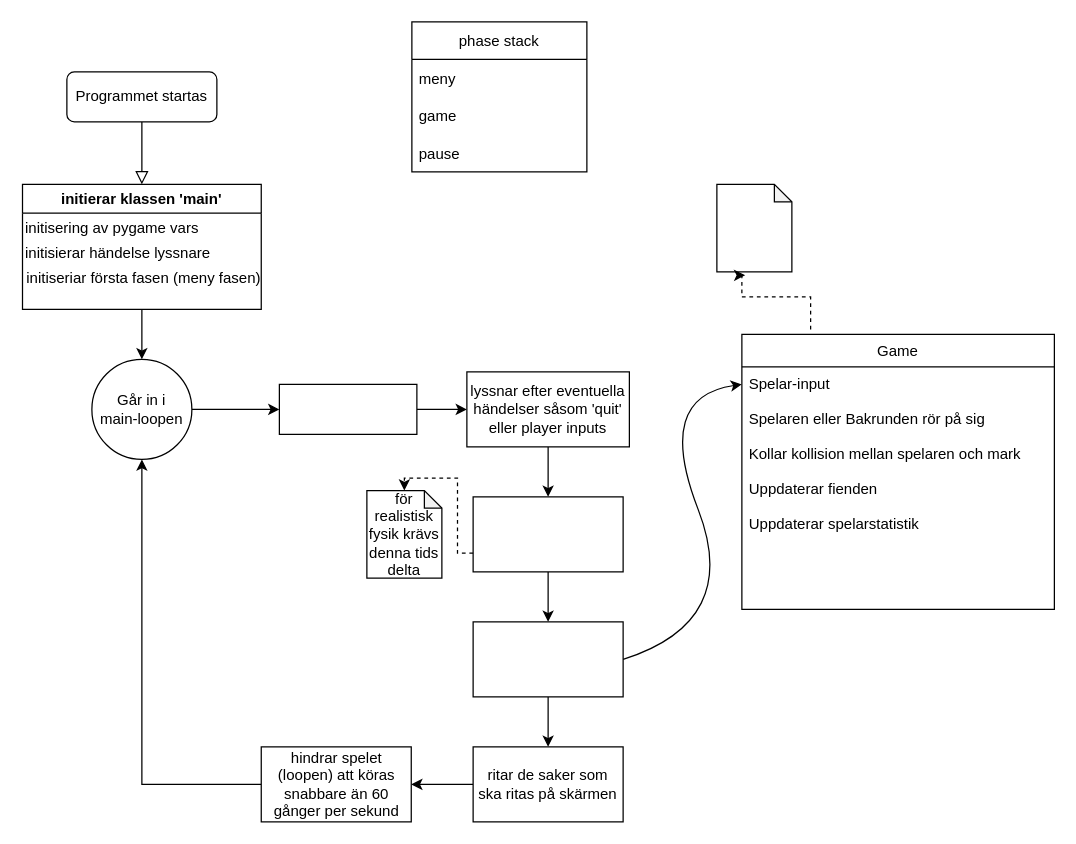
This 1076x844 diagram has some shape labels left out. Each missing label, with the centre of its shape:
Exempel på en fas: (x=754, y=227)
fyller skärmen vit: (x=347, y=408)
räknar ut den förflutna tiden sedan förra loopens begynnelse: (x=547, y=534)
uppdaterar den nuvarande fasen: (x=547, y=659)
